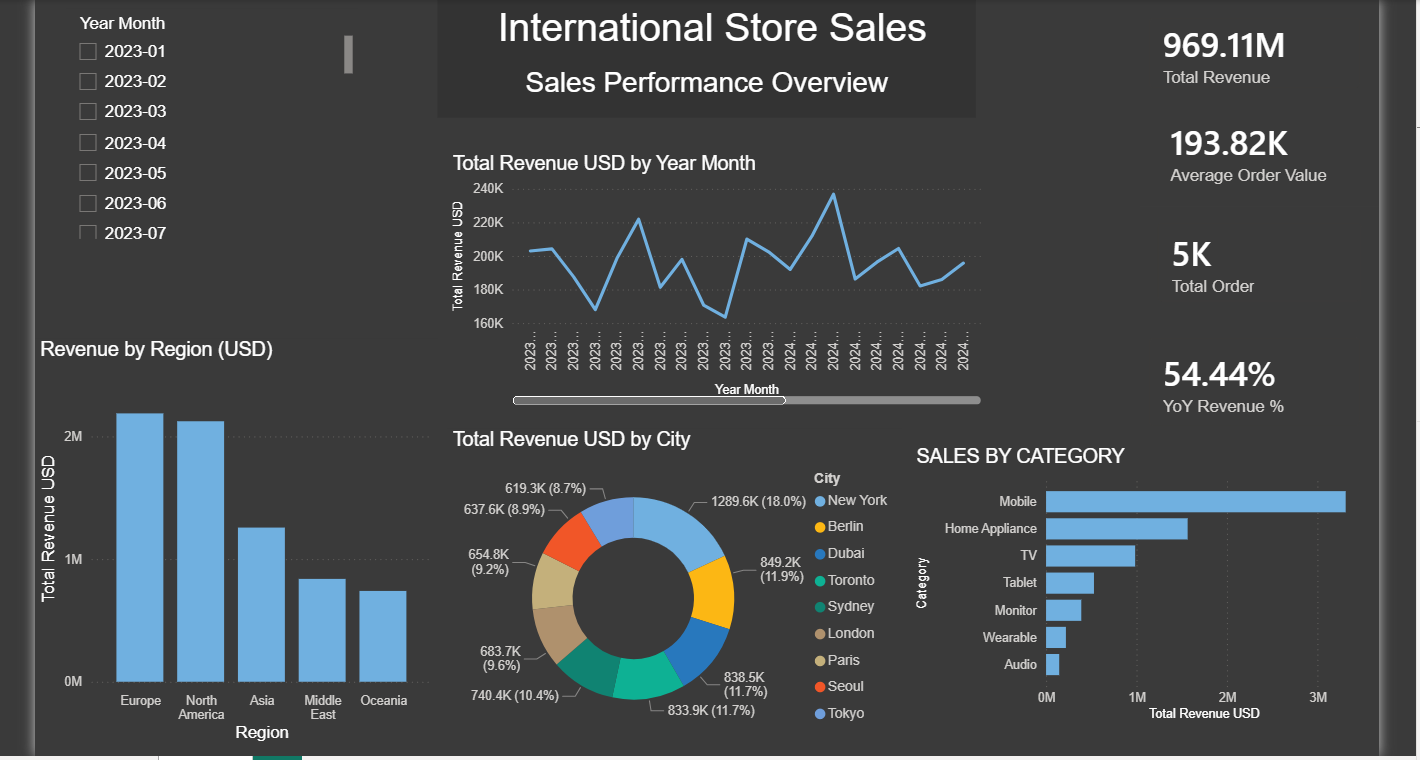

The dashboard page shown, as its layout file describes it:
{"tool":"powerbi","page":{"name":"Page 1","canvas":[1280,720],"ordinal":0},"visuals":[{"type":"clusteredColumnChart","title":"Revenue by Region (USD)","fields":{"Category":["DimLocation.Region"],"Y":["Measures (2).Total Revenue USD"]},"box":[0,322.1,383.6,388.5],"z":0},{"type":"lineChart","fields":{"Category":["DimDate.Year Month"],"Y":["Measures (2).Total Revenue USD"]},"box":[392.9,145.2,513.1,245.2],"z":1000},{"type":"slicer","fields":{"Values":["DimDate.Year Month"]},"box":[30.2,8.4,277.5,224.4],"z":2000},{"type":"textbox","box":[383.3,0,513.1,111.9],"z":3000},{"type":"cardVisual","fields":{"Data":["Measures (2).Total Revenue"]},"box":[1043.6,0,235.3,101.3],"z":4000},{"type":"cardVisual","fields":{"Data":["Measures (2).Total Order"]},"box":[1052,195.4,228,109.8],"z":5000},{"type":"cardVisual","fields":{"Data":["Measures (2).Average Order Value"]},"box":[1052,92.9,228,103.8],"z":6000},{"type":"cardVisual","fields":{"Data":["Measures (2).YoY Growth %"]},"box":[1043.6,305.2,235.3,118.2],"z":7000},{"type":"clusteredBarChart","title":"SALES BY CATEGORY","fields":{"Category":["DimProduct.Category"],"Y":["Measures (2).Total Revenue USD"]},"box":[834.5,423.8,444,267.9],"z":8000},{"type":"donutChart","fields":{"Category":["DimLocation.City"],"Y":["Measures (2).Total Revenue USD"]},"box":[393.3,407.8,433.1,302.8],"z":9000}]}

Visuals, with their boxes on the page's 1280x720 design canvas (x1, y1, x2, y2). These are canvas units, not pixel positions in the 1420x760 screenshot, which may show the page scaled, cropped or inside an application window:
"Revenue by Region (USD)" clusteredColumnChart: pyautogui.locateOnScreen(0, 322, 384, 711)
lineChart - DimDate.Year Month x Measures (2).Total Revenue USD: pyautogui.locateOnScreen(393, 145, 906, 390)
slicer - DimDate.Year Month: pyautogui.locateOnScreen(30, 8, 308, 233)
textbox: pyautogui.locateOnScreen(383, 0, 896, 112)
cardVisual - Measures (2).Total Revenue: pyautogui.locateOnScreen(1044, 0, 1279, 101)
cardVisual - Measures (2).Total Order: pyautogui.locateOnScreen(1052, 195, 1280, 305)
cardVisual - Measures (2).Average Order Value: pyautogui.locateOnScreen(1052, 93, 1280, 197)
cardVisual - Measures (2).YoY Growth %: pyautogui.locateOnScreen(1044, 305, 1279, 423)
"SALES BY CATEGORY" clusteredBarChart: pyautogui.locateOnScreen(834, 424, 1278, 692)
donutChart - DimLocation.City x Measures (2).Total Revenue USD: pyautogui.locateOnScreen(393, 408, 826, 711)
